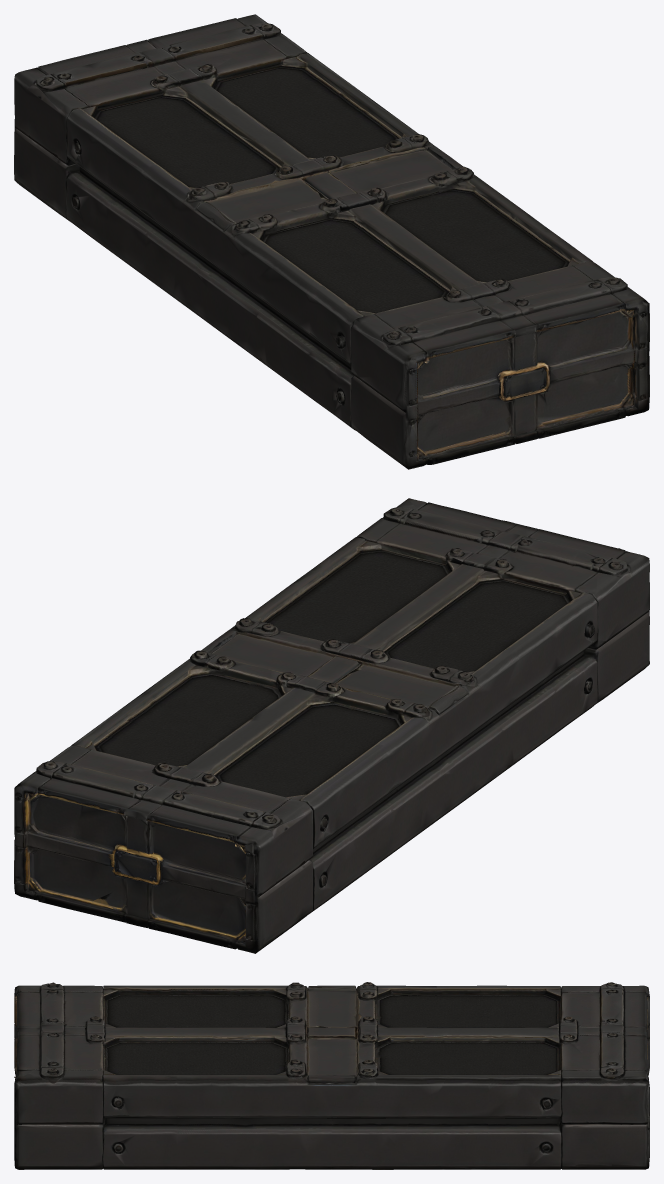
File: industrial_door.glb
3 views of the same model, one above another, from view 1: azimuth 30°, elevation 25°; view 2: azimuth 150°, elevation 25°; view 3: azimuth 270°, elevation 25° (orthographic). The views are drawn at different scales.
Size of the model in its own units: 0.3624 by 0.1648 by 0.9807.
Materials: 1 (1 with a texture image).
